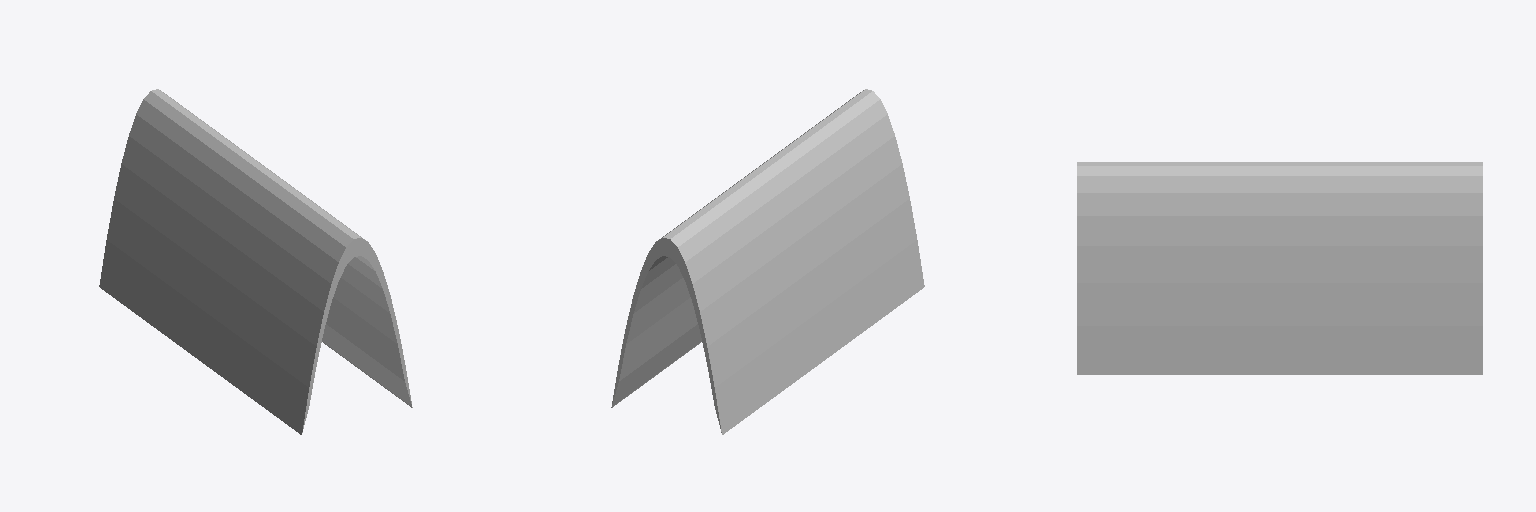
The model's file is parabolic_cylinder_50_grid.obj.
The picture shows the model from 3 angles: view 1: azimuth 30°, elevation 25°; view 2: azimuth 150°, elevation 25°; view 3: azimuth 270°, elevation 25°; orthographic projection.
Visible parts, largest first — view 1: z_20_Z_Function; view 2: z_20_Z_Function; view 3: z_20_Z_Function.
Part boxes in pixels (left/top/right/bottom): z_20_Z_Function: left=99, top=89, right=412, bottom=434; z_20_Z_Function: left=611, top=89, right=924, bottom=434; z_20_Z_Function: left=1077, top=162, right=1482, bottom=374.
Bounding box in the file's own units: 31.6 × 50 × 100.